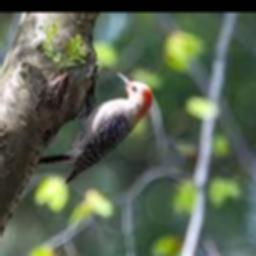Woodpecker: (36, 69, 151, 183)
